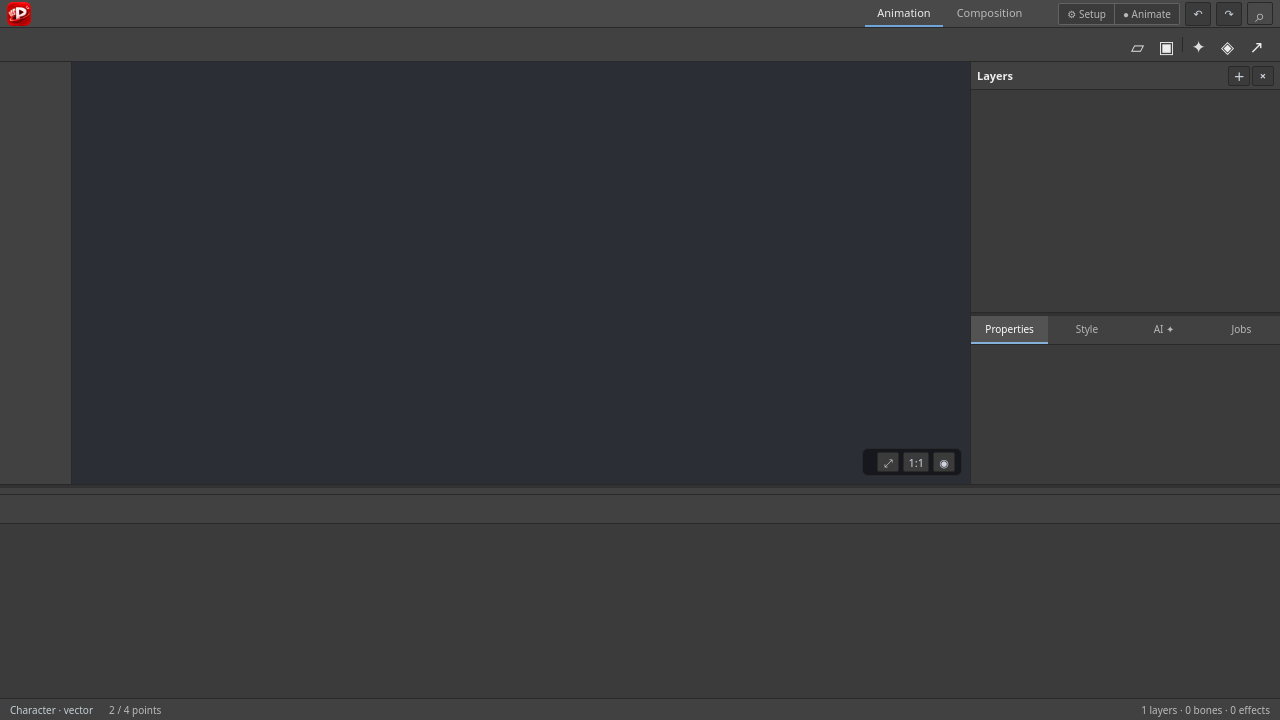
Test: runs AI planning and applies the reviewed plan from the React dialog
Click the button "✦" at (1198, 44), box [1185, 32, 1212, 57]
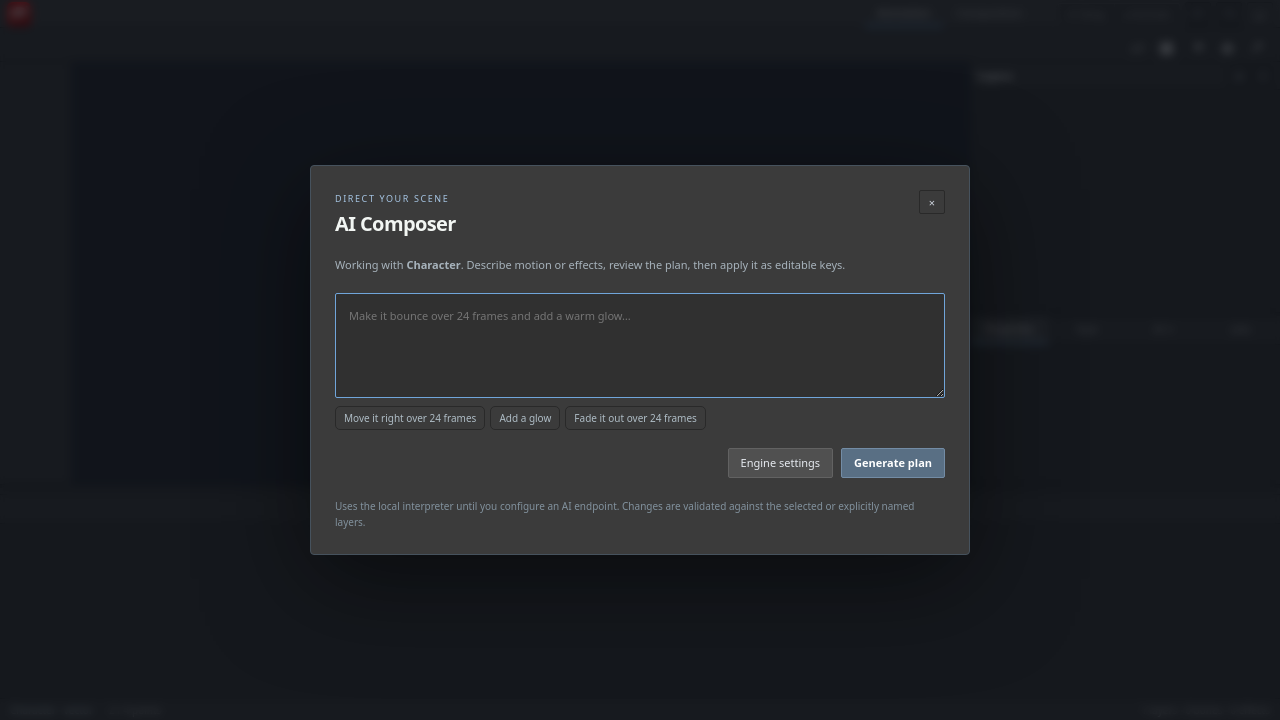
Expected: the dialog is shown, [310, 165, 970, 555]
Click the button "Move it right over 24 frames" at (410, 418), box [335, 406, 485, 430]
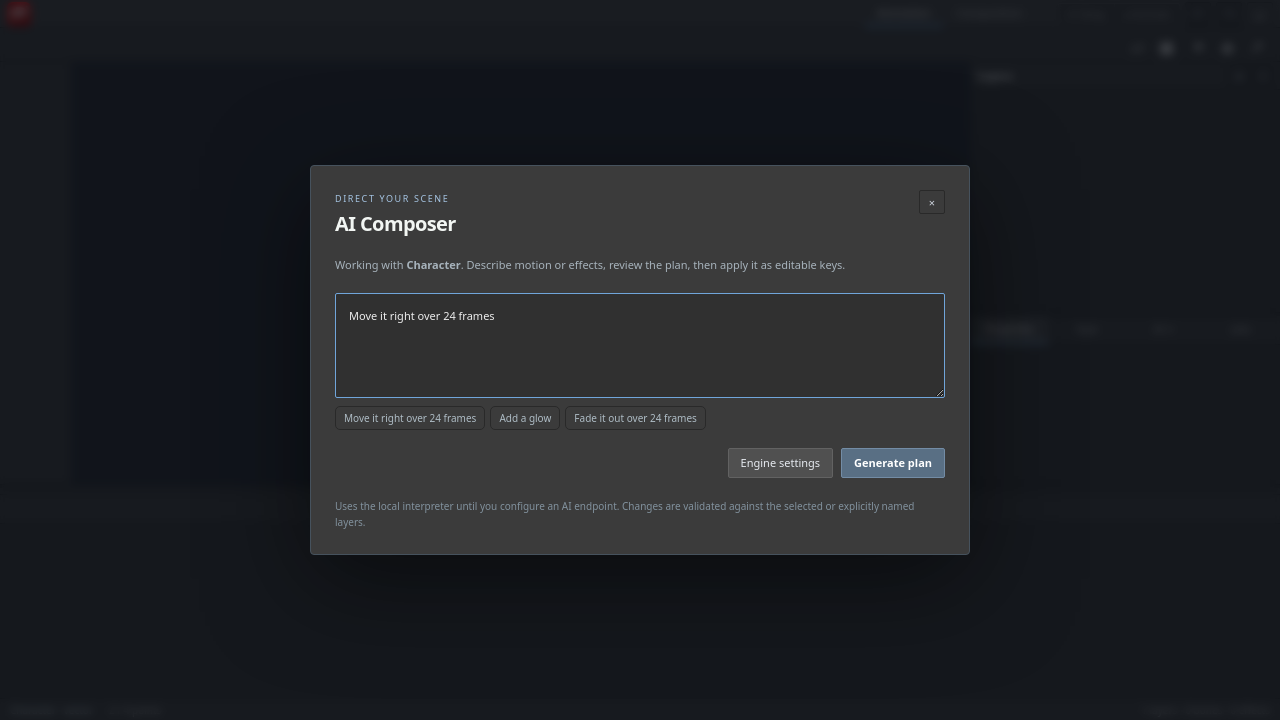
Click the button "Generate plan" at (893, 463), box [841, 448, 945, 478]
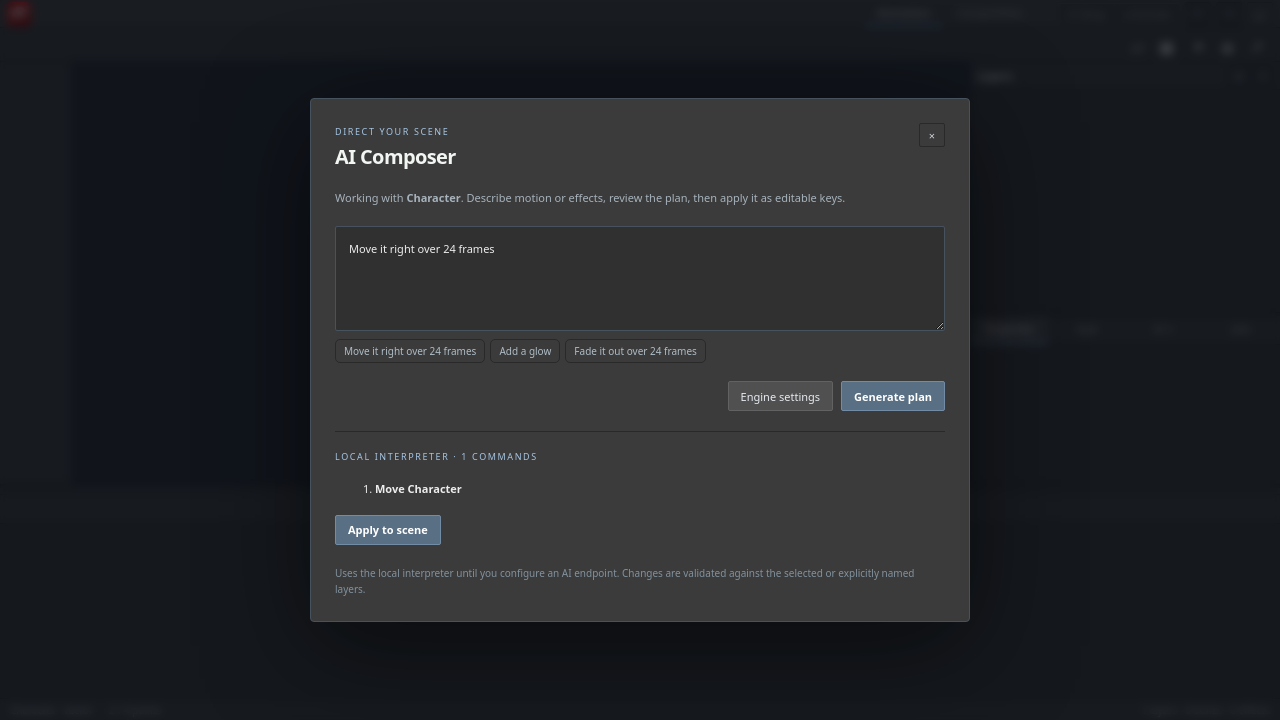
Expected: the text "Move Character" is shown, [375, 481, 462, 496]
Click the button "Apply to scene" at (388, 530), box [335, 515, 441, 545]
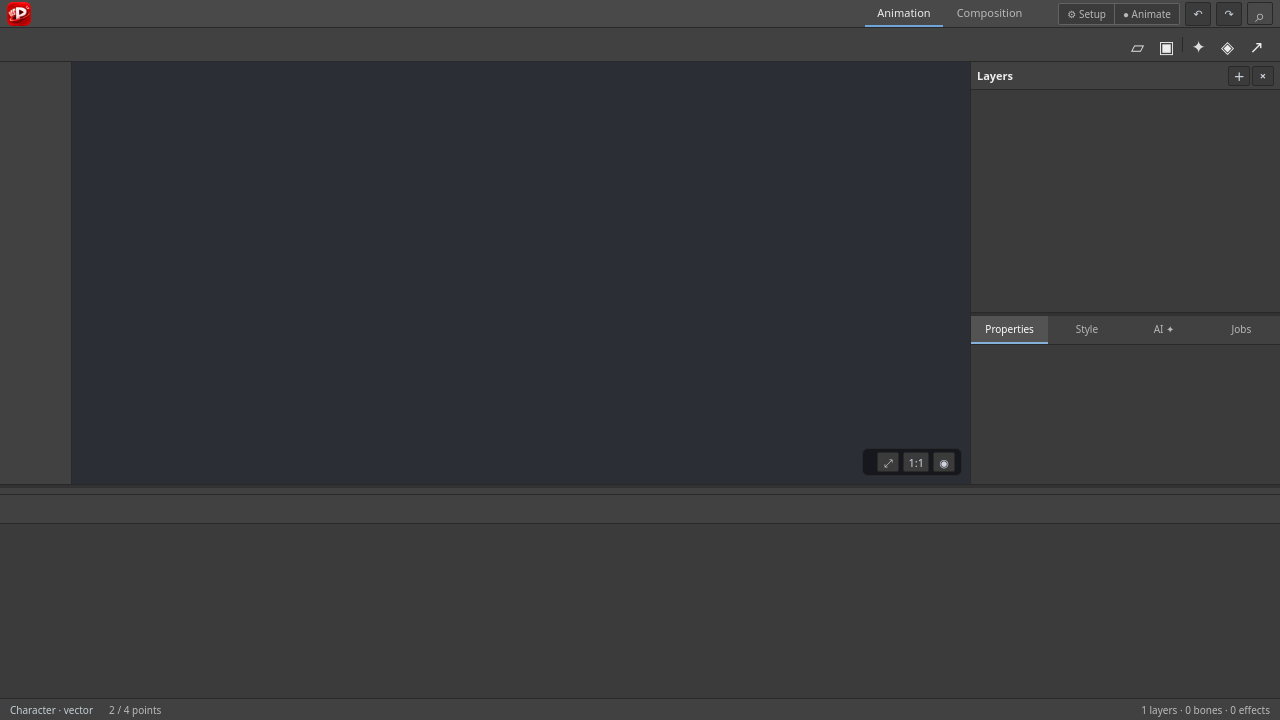
Expected: the dialog is gone
